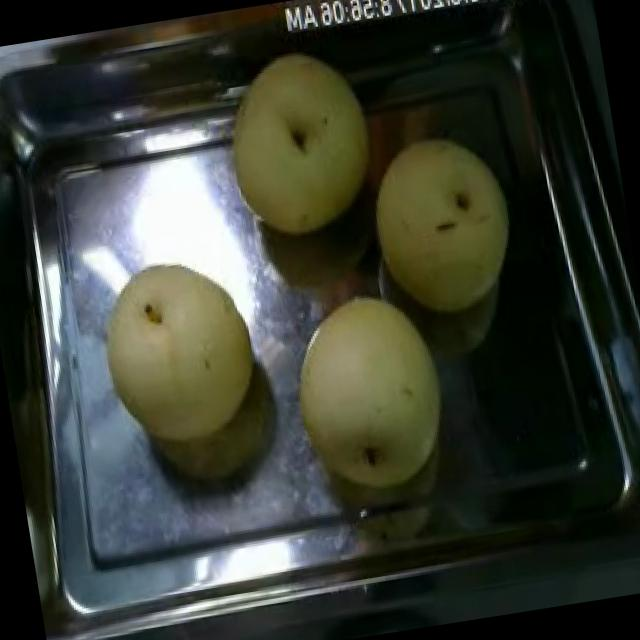Fruit: (78, 232, 284, 468), (266, 272, 463, 510), (340, 112, 540, 342), (202, 31, 400, 261)
